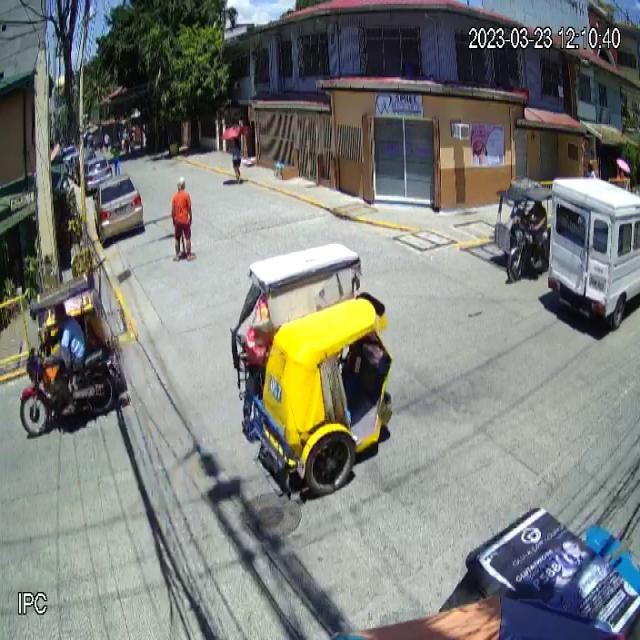Tricycle: (229, 241, 395, 500), (19, 270, 130, 436)
